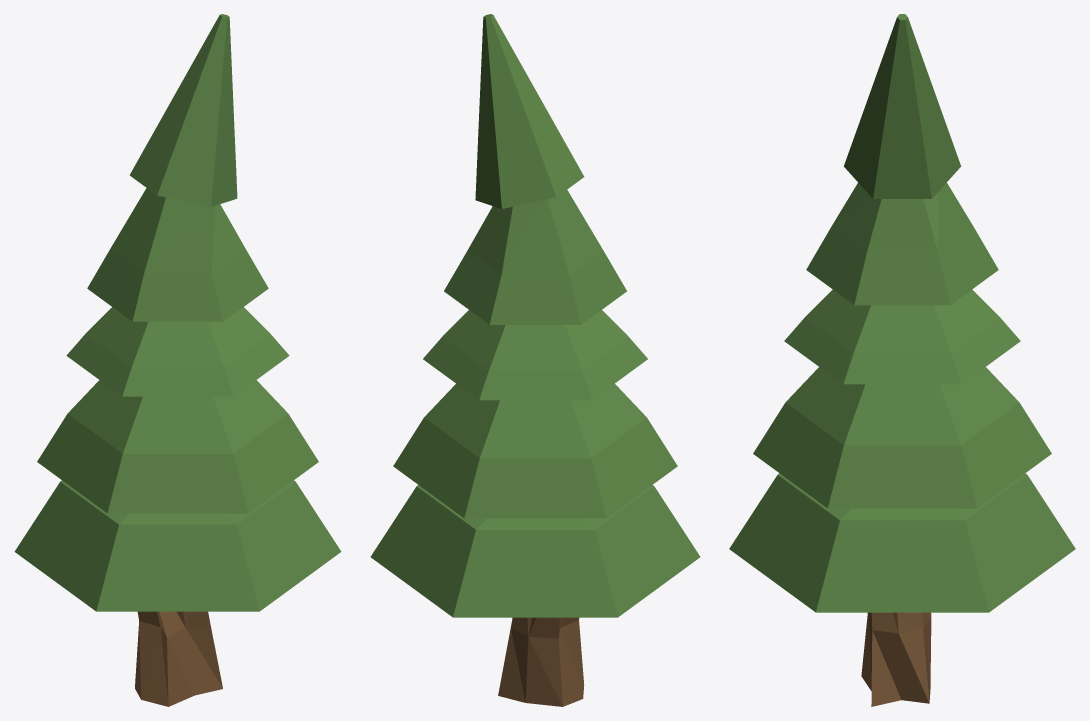
The model's file is tree3d-168.glb.
3 views of the same model, side by side, from view 1: azimuth 30°, elevation 25°; view 2: azimuth 150°, elevation 25°; view 3: azimuth 270°, elevation 25° (orthographic). The views are drawn at different scales.
Visible parts, largest first — view 1: tree3d-168; view 2: tree3d-168; view 3: tree3d-168.
Boxes of the visible parts, x1=… form: tree3d-168: x1=14, y1=14, x2=341, y2=706; tree3d-168: x1=370, y1=14, x2=700, y2=706; tree3d-168: x1=729, y1=14, x2=1075, y2=706.
Bounding box in the file's own units: 0.3892 × 1 × 0.4494.
